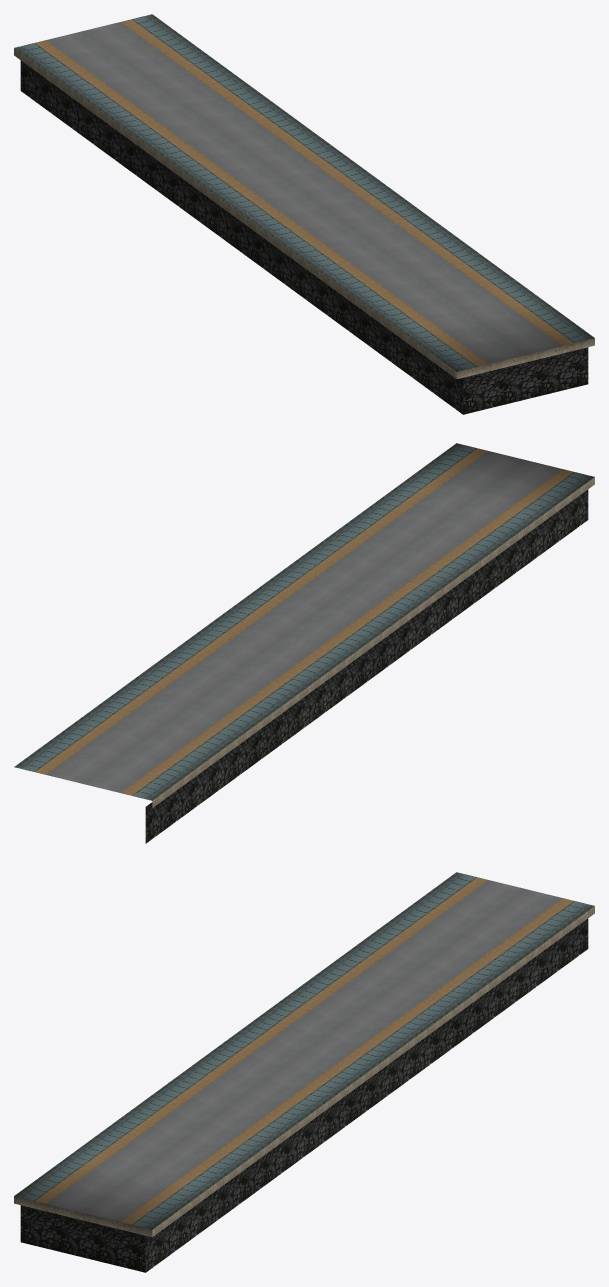
File: AMB_MEI_CENTERHOME3.glb
3 renders of one model, top to bottom at view 1: azimuth 30°, elevation 25°; view 2: azimuth 150°, elevation 25°; view 3: azimuth 330°, elevation 25°, orthographic.
Parts seen in each view (by area): view 1: Mesh1; view 2: Mesh1; view 3: Mesh1.
Part boxes in pixels (x1,y1,x2,y2): Mesh1: (14, 14, 594, 414); Mesh1: (14, 443, 594, 843); Mesh1: (14, 872, 594, 1272).
Bounding box in the file's own units: 18.05 × 5.55 × 100.
6 materials, 6 textured.
